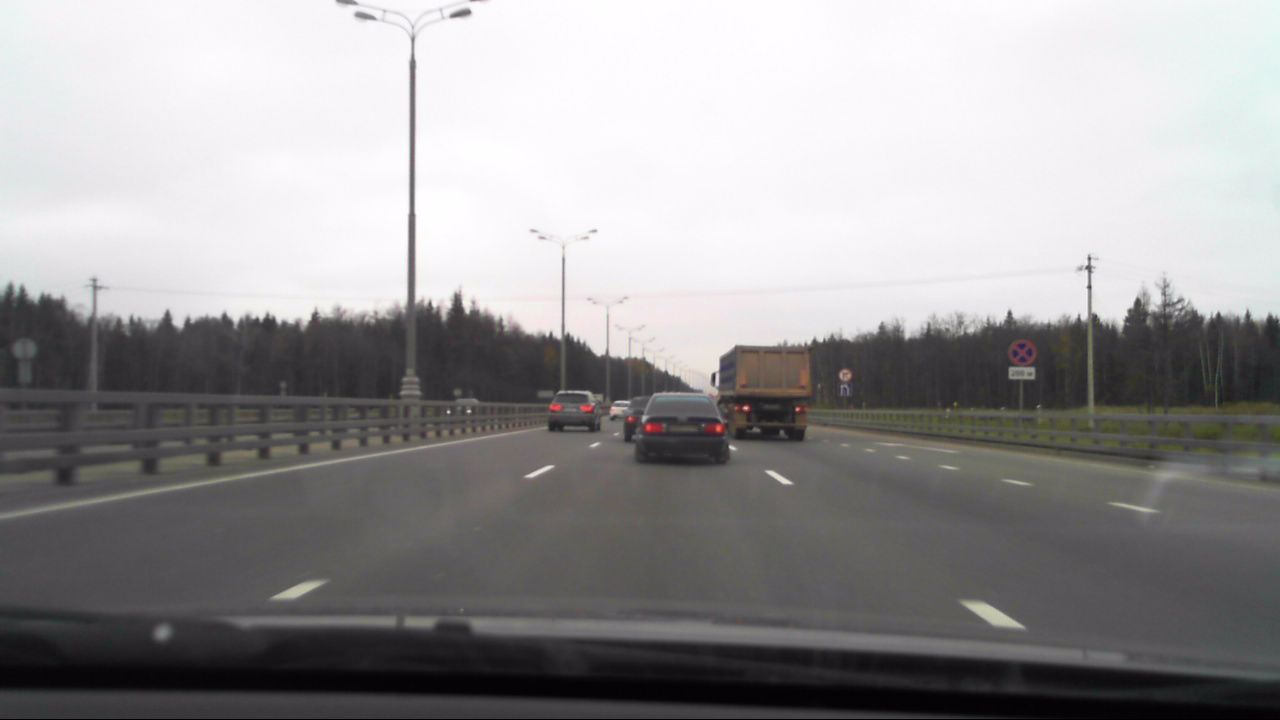No Parking: (1008, 338, 1036, 365)
